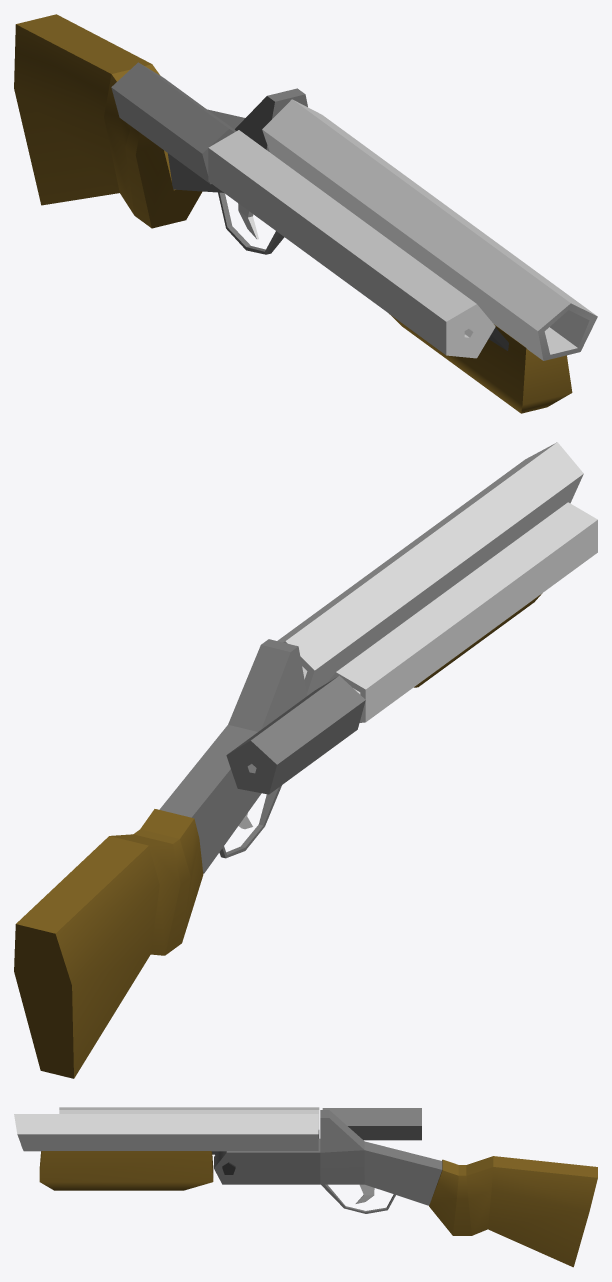
File: Escopeta.fbx
3 renders of one model, top to bottom at view 1: azimuth 30°, elevation 25°; view 2: azimuth 150°, elevation 25°; view 3: azimuth 270°, elevation 25°, orthographic. The views are drawn at different scales.
Parts seen in each view (by area): view 1: Barrel, Wooden_Stock, Alofs_Magazine, Alofs_Reloader, Wooden_Front, Frame, Trigger_Guard; view 2: Wooden_Stock, Barrel, Alofs_Magazine, Frame, Alofs_Reloader; view 3: Wooden_Stock, Barrel, Frame, Wooden_Front, Alofs_Reloader, Alofs_Magazine, Trigger_Guard.
Boxes of the visible parts, x1=… form: Barrel: x1=262, y1=99, x2=597, y2=360; Wooden_Stock: x1=14, y1=14, x2=202, y2=228; Alofs_Magazine: x1=208, y1=130, x2=495, y2=358; Alofs_Reloader: x1=111, y1=62, x2=236, y2=184; Wooden_Front: x1=389, y1=314, x2=572, y2=413; Frame: x1=167, y1=88, x2=307, y2=192; Trigger_Guard: x1=218, y1=192, x2=284, y2=254; Wooden_Stock: x1=14, y1=809, x2=203, y2=1078; Barrel: x1=277, y1=442, x2=583, y2=695; Alofs_Magazine: x1=327, y1=502, x2=597, y2=722; Frame: x1=159, y1=639, x2=307, y2=873; Alofs_Reloader: x1=226, y1=675, x2=365, y2=794; Wooden_Stock: x1=429, y1=1156, x2=597, y2=1267; Barrel: x1=14, y1=1114, x2=318, y2=1151; Frame: x1=214, y1=1110, x2=442, y2=1205; Wooden_Front: x1=39, y1=1151, x2=213, y2=1190; Alofs_Reloader: x1=322, y1=1108, x2=421, y2=1140; Alofs_Magazine: x1=59, y1=1107, x2=319, y2=1138; Trigger_Guard: x1=321, y1=1184, x2=395, y2=1213.
Bounding box in the file's own units: 2.85 × 6.41 × 22.73.
